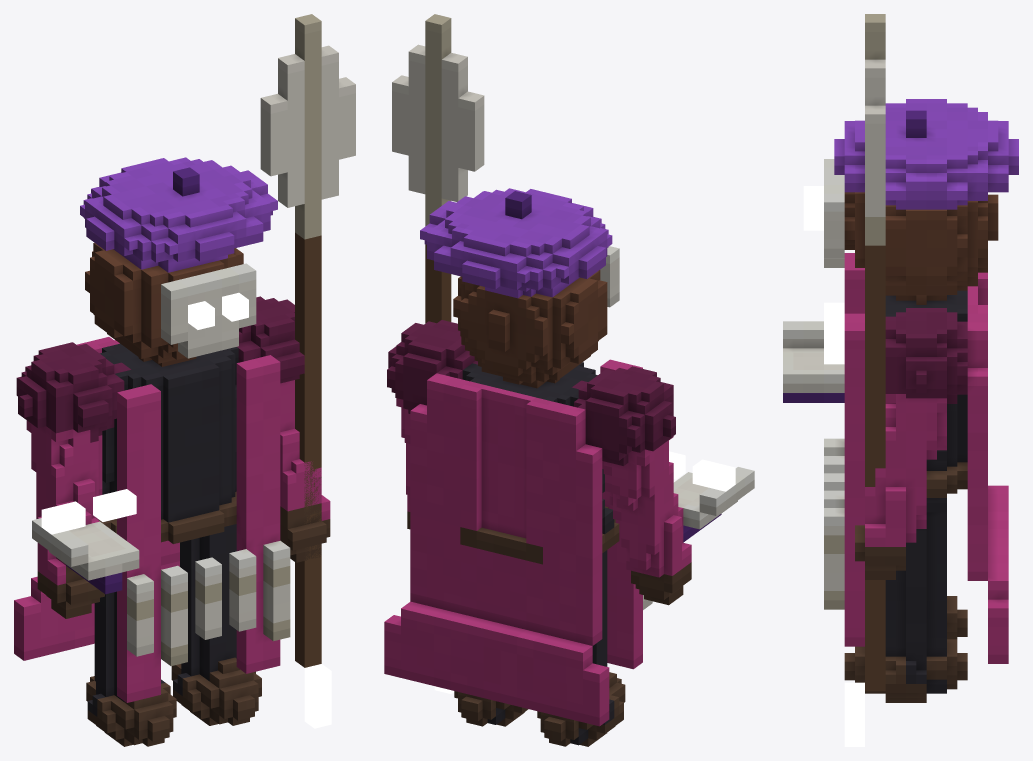
Rendered from u_tidiane__oracle.glb.
The picture shows the model from 3 angles, left to right: view 1: azimuth 30°, elevation 25°; view 2: azimuth 150°, elevation 25°; view 3: azimuth 270°, elevation 25°; orthographic projection. The views are drawn at different scales.
Parts seen in each view (by area): view 1: tidiane_body, tidiane_weapon, tidiane_glow, tidiane_weaponglow; view 2: tidiane_body, tidiane_weapon, tidiane_glow; view 3: tidiane_body, tidiane_weapon, tidiane_glow, tidiane_weaponglow.
Boxes of the visible parts, x1,y1,x2,y2 form: tidiane_body: [14, 157, 330, 746]; tidiane_weapon: [260, 14, 355, 667]; tidiane_glow: [41, 292, 248, 534]; tidiane_weaponglow: [304, 664, 331, 728]; tidiane_body: [384, 188, 754, 746]; tidiane_weapon: [392, 14, 484, 323]; tidiane_glow: [669, 451, 735, 491]; tidiane_body: [783, 99, 1018, 702]; tidiane_weapon: [865, 14, 885, 691]; tidiane_glow: [803, 186, 844, 364]; tidiane_weaponglow: [844, 682, 864, 746].
Bounding box in the file's own units: 0.95 × 1.95 × 0.575.
